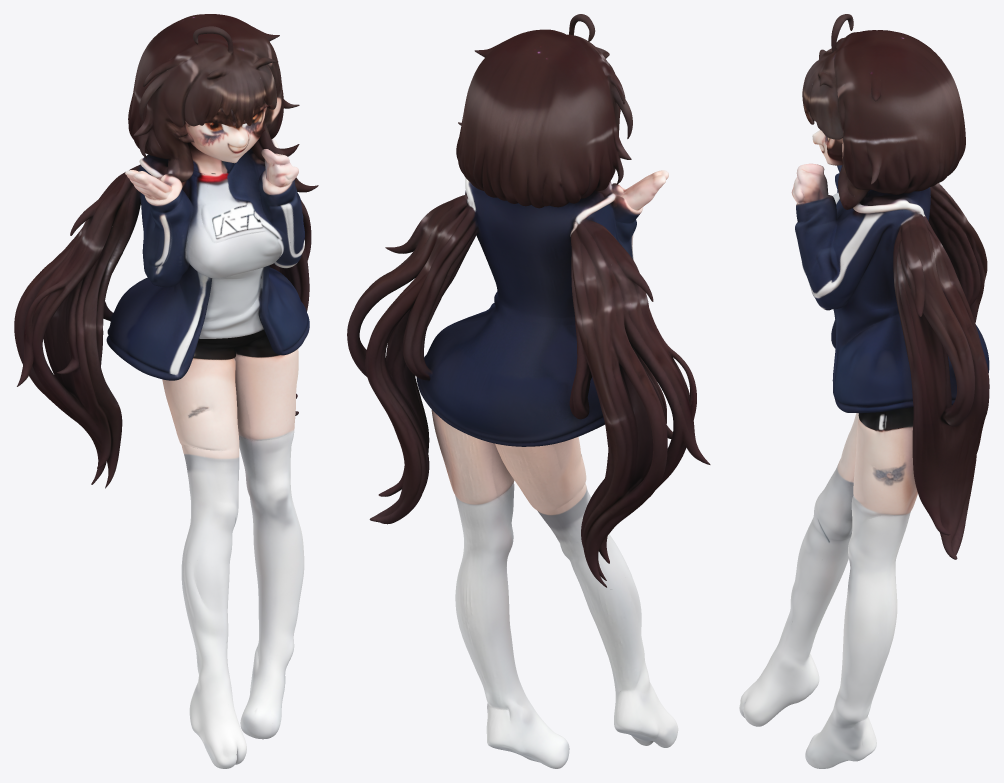
The model's file is brown-girl.glb.
The picture shows the model from 3 angles, left to right: view 1: azimuth 30°, elevation 25°; view 2: azimuth 150°, elevation 25°; view 3: azimuth 270°, elevation 25°; orthographic projection. The views are drawn at different scales.
Parts seen in each view (by area): view 1: model; view 2: model; view 3: model.
Boxes of the visible parts, x1,y1,x2,y2 form: model: (14,14,318,768); model: (347,14,710,768); model: (739,14,989,768).
Size of the model in its own units: 0.873 by 1.89 by 0.5888.
1 material, 1 textured.
